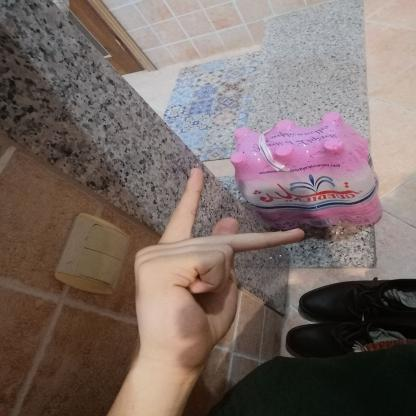DHAA: (117, 159, 321, 376)
